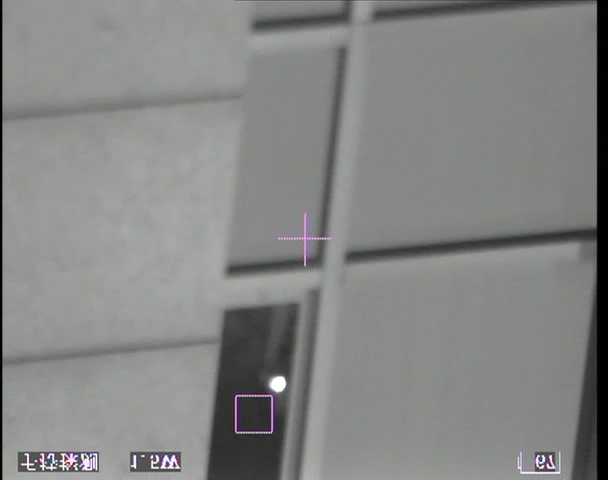my: (268, 373, 287, 393)
